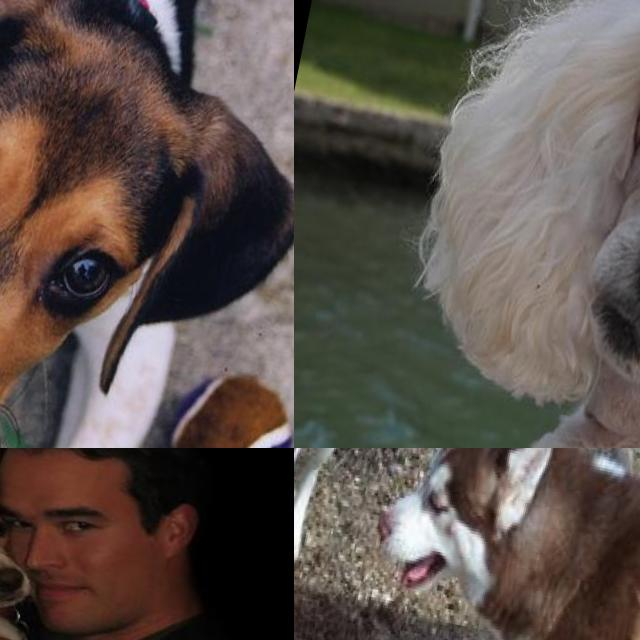eyes: (0, 114, 157, 332), (0, 500, 54, 570), (407, 470, 461, 530), (294, 448, 346, 483), (294, 448, 316, 467)
nose: (0, 341, 64, 448), (362, 496, 404, 560), (0, 560, 37, 603), (294, 448, 318, 478), (294, 448, 315, 477)
